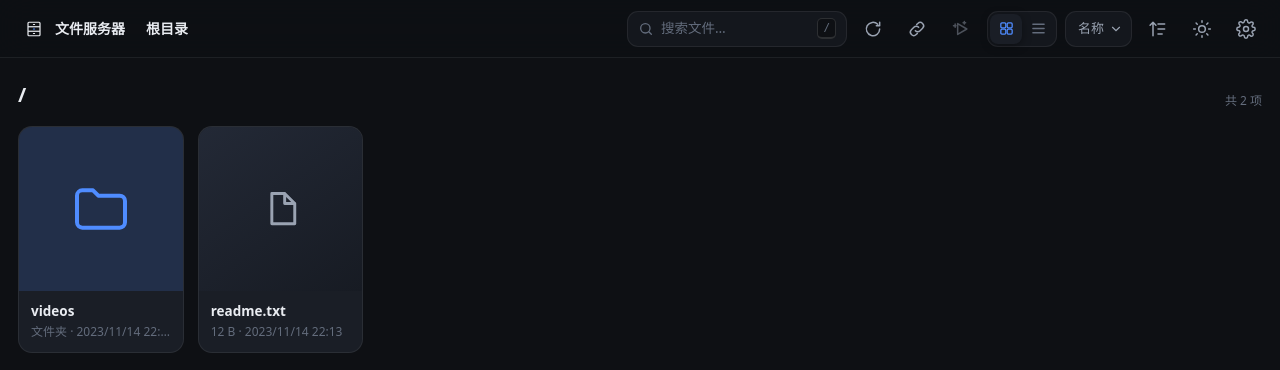
Scenario: BrowsePage › 渲染目录条目，点击目录后更新 ?path= 并加载子目录
Expected: the text "readme.txt" is shown, [211, 302, 286, 320]
Click the button "videos 文件夹 · 2023/11/14 22:13" at (101, 240), box [18, 126, 184, 353]
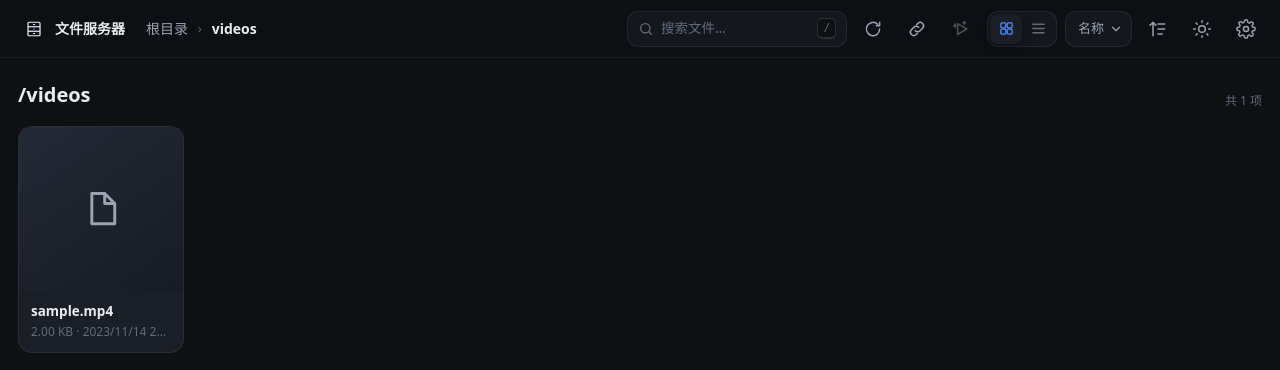
Result: the text "sample.mp4" is shown at [31, 302, 113, 320]
